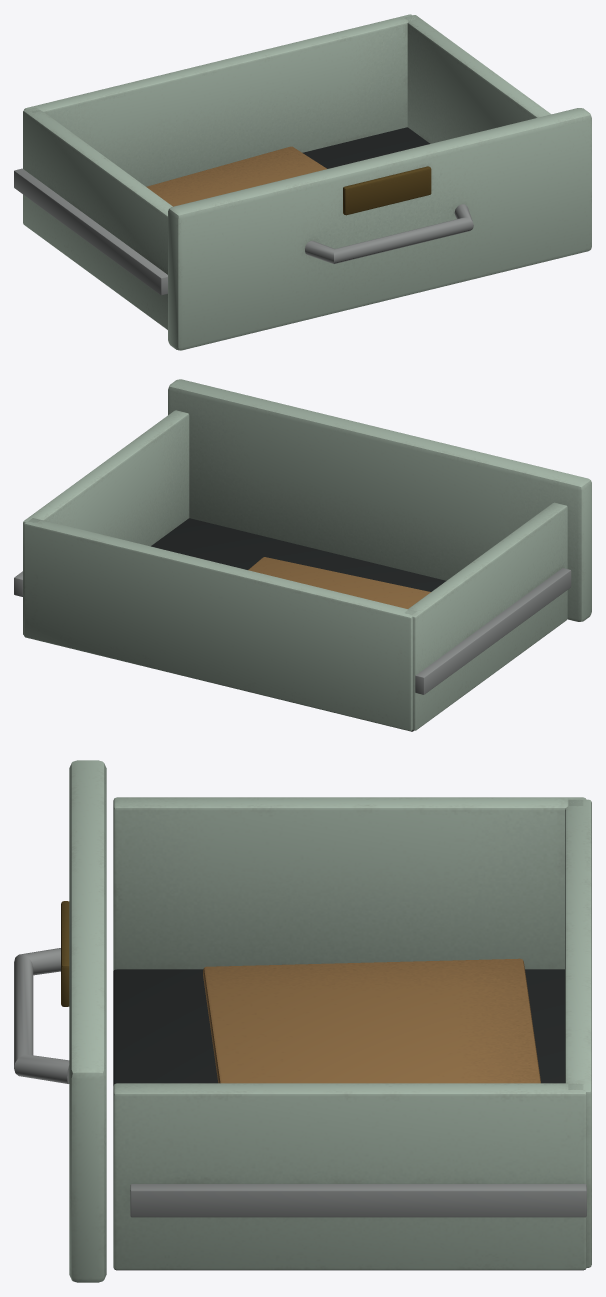
Rendered from CTCC_LOC03_Bed3Drawer.fbx.
3 views of the same model, one above another, from view 1: azimuth 30°, elevation 25°; view 2: azimuth 150°, elevation 25°; view 3: azimuth 270°, elevation 25° (orthographic). The views are drawn at different scales.
Visible parts, largest first — view 1: CTCC_LOC03_Bed3Drawer; view 2: CTCC_LOC03_Bed3Drawer; view 3: CTCC_LOC03_Bed3Drawer.
Boxes of the visible parts, bbox=[...] form: CTCC_LOC03_Bed3Drawer: bbox=[14, 14, 591, 350]; CTCC_LOC03_Bed3Drawer: bbox=[14, 379, 591, 731]; CTCC_LOC03_Bed3Drawer: bbox=[14, 760, 591, 1282].
Size of the model in its own units: 0.44 by 0.14 by 0.3417.
